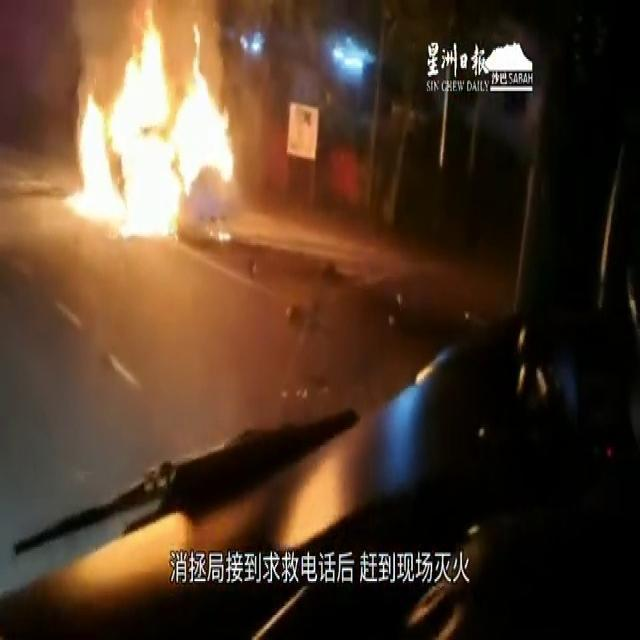Fire: (64, 3, 248, 244)
